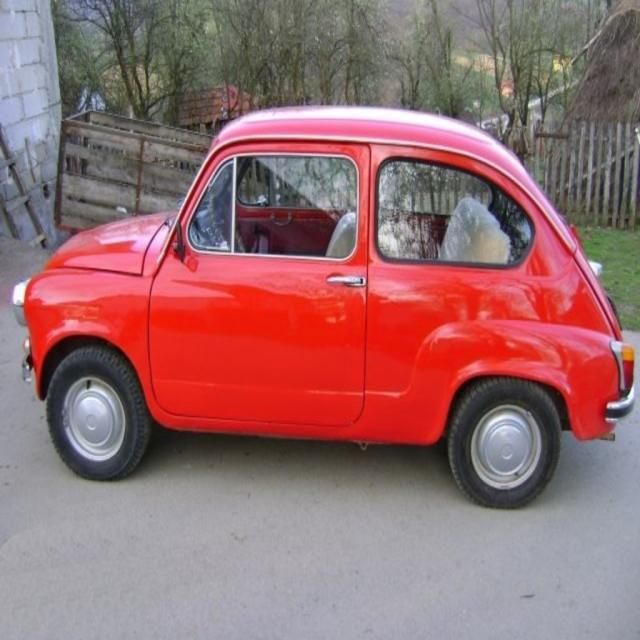car: (10, 106, 635, 511)
